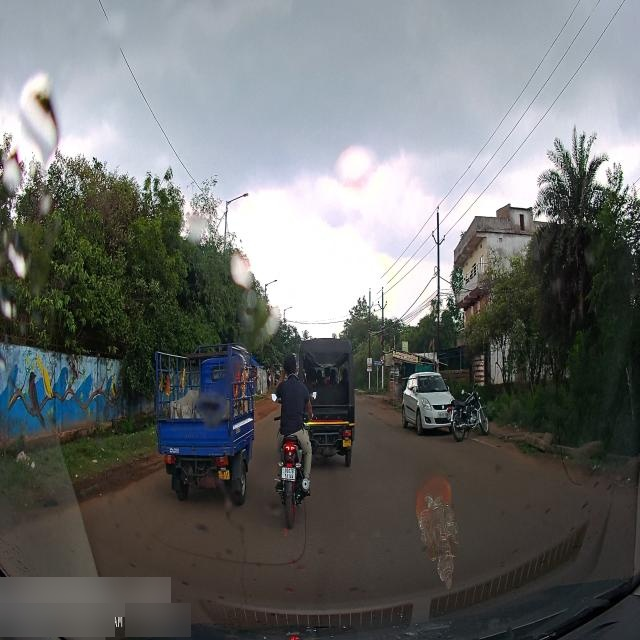pothole: (74, 481, 107, 502), (36, 497, 64, 513)
